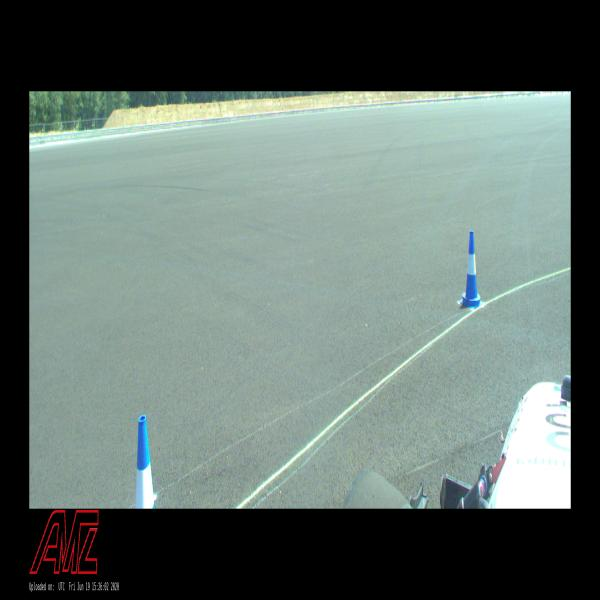blue_cone: (460, 230, 484, 310), (135, 415, 155, 509)
